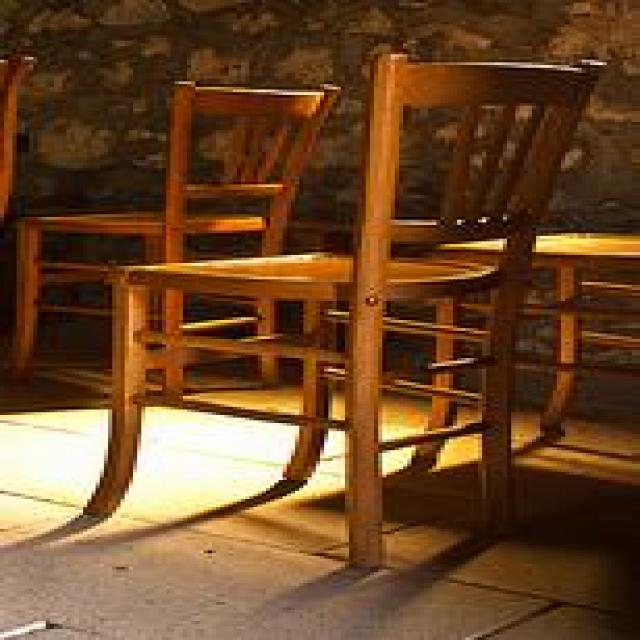chair: (79, 51, 607, 567)
